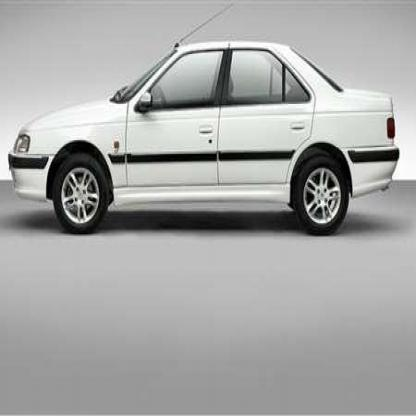Car: (13, 1, 397, 246)
